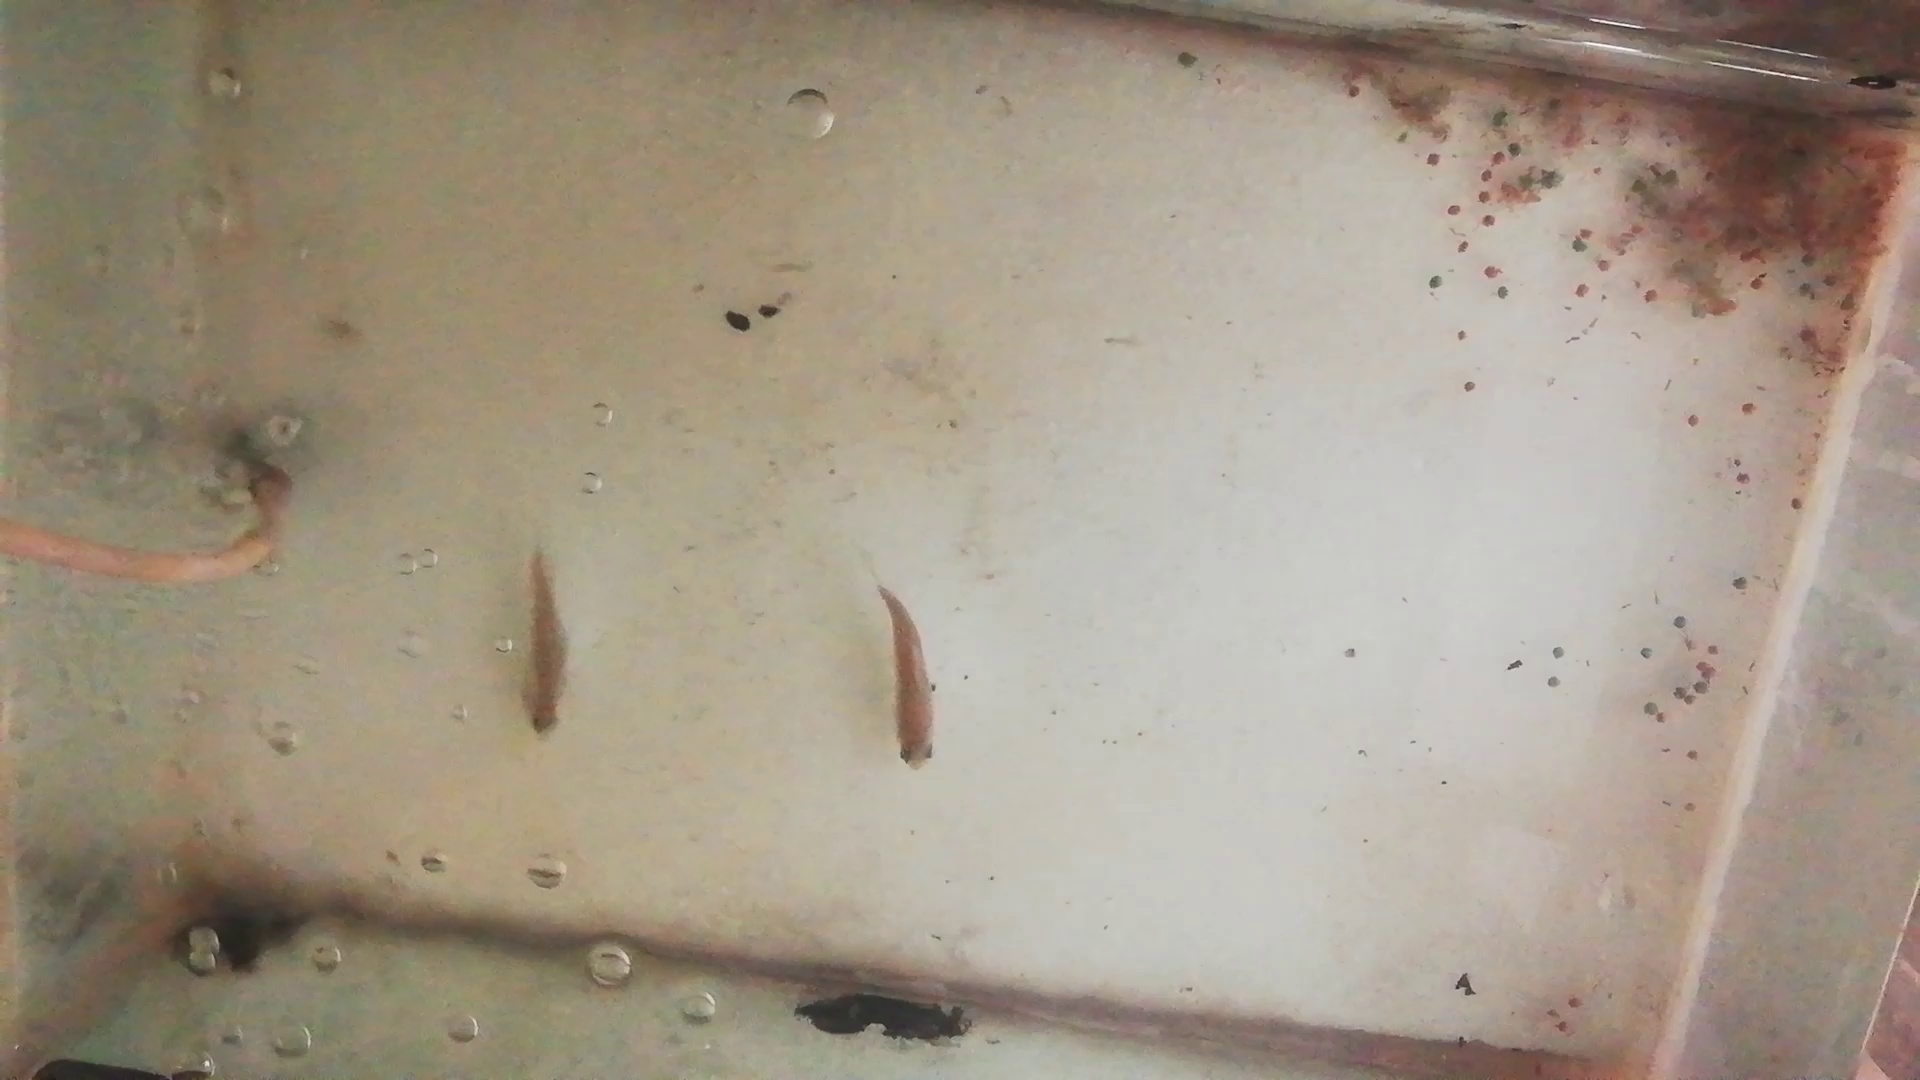fish: (880, 591, 942, 771), (516, 551, 572, 742)
